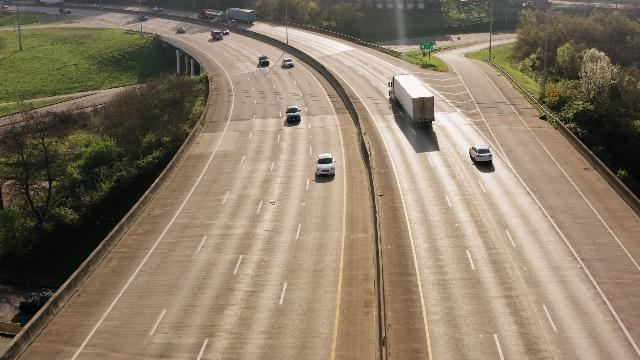car: (469, 142, 495, 168), (316, 151, 337, 182), (284, 104, 304, 127), (281, 54, 296, 70), (257, 55, 272, 68), (226, 19, 238, 27), (176, 27, 186, 34), (221, 28, 230, 35), (139, 15, 148, 21)
pickup-truck: (152, 5, 164, 12)
truck: (387, 73, 439, 133), (225, 7, 258, 25), (197, 8, 225, 23)
van: (210, 30, 224, 42)
